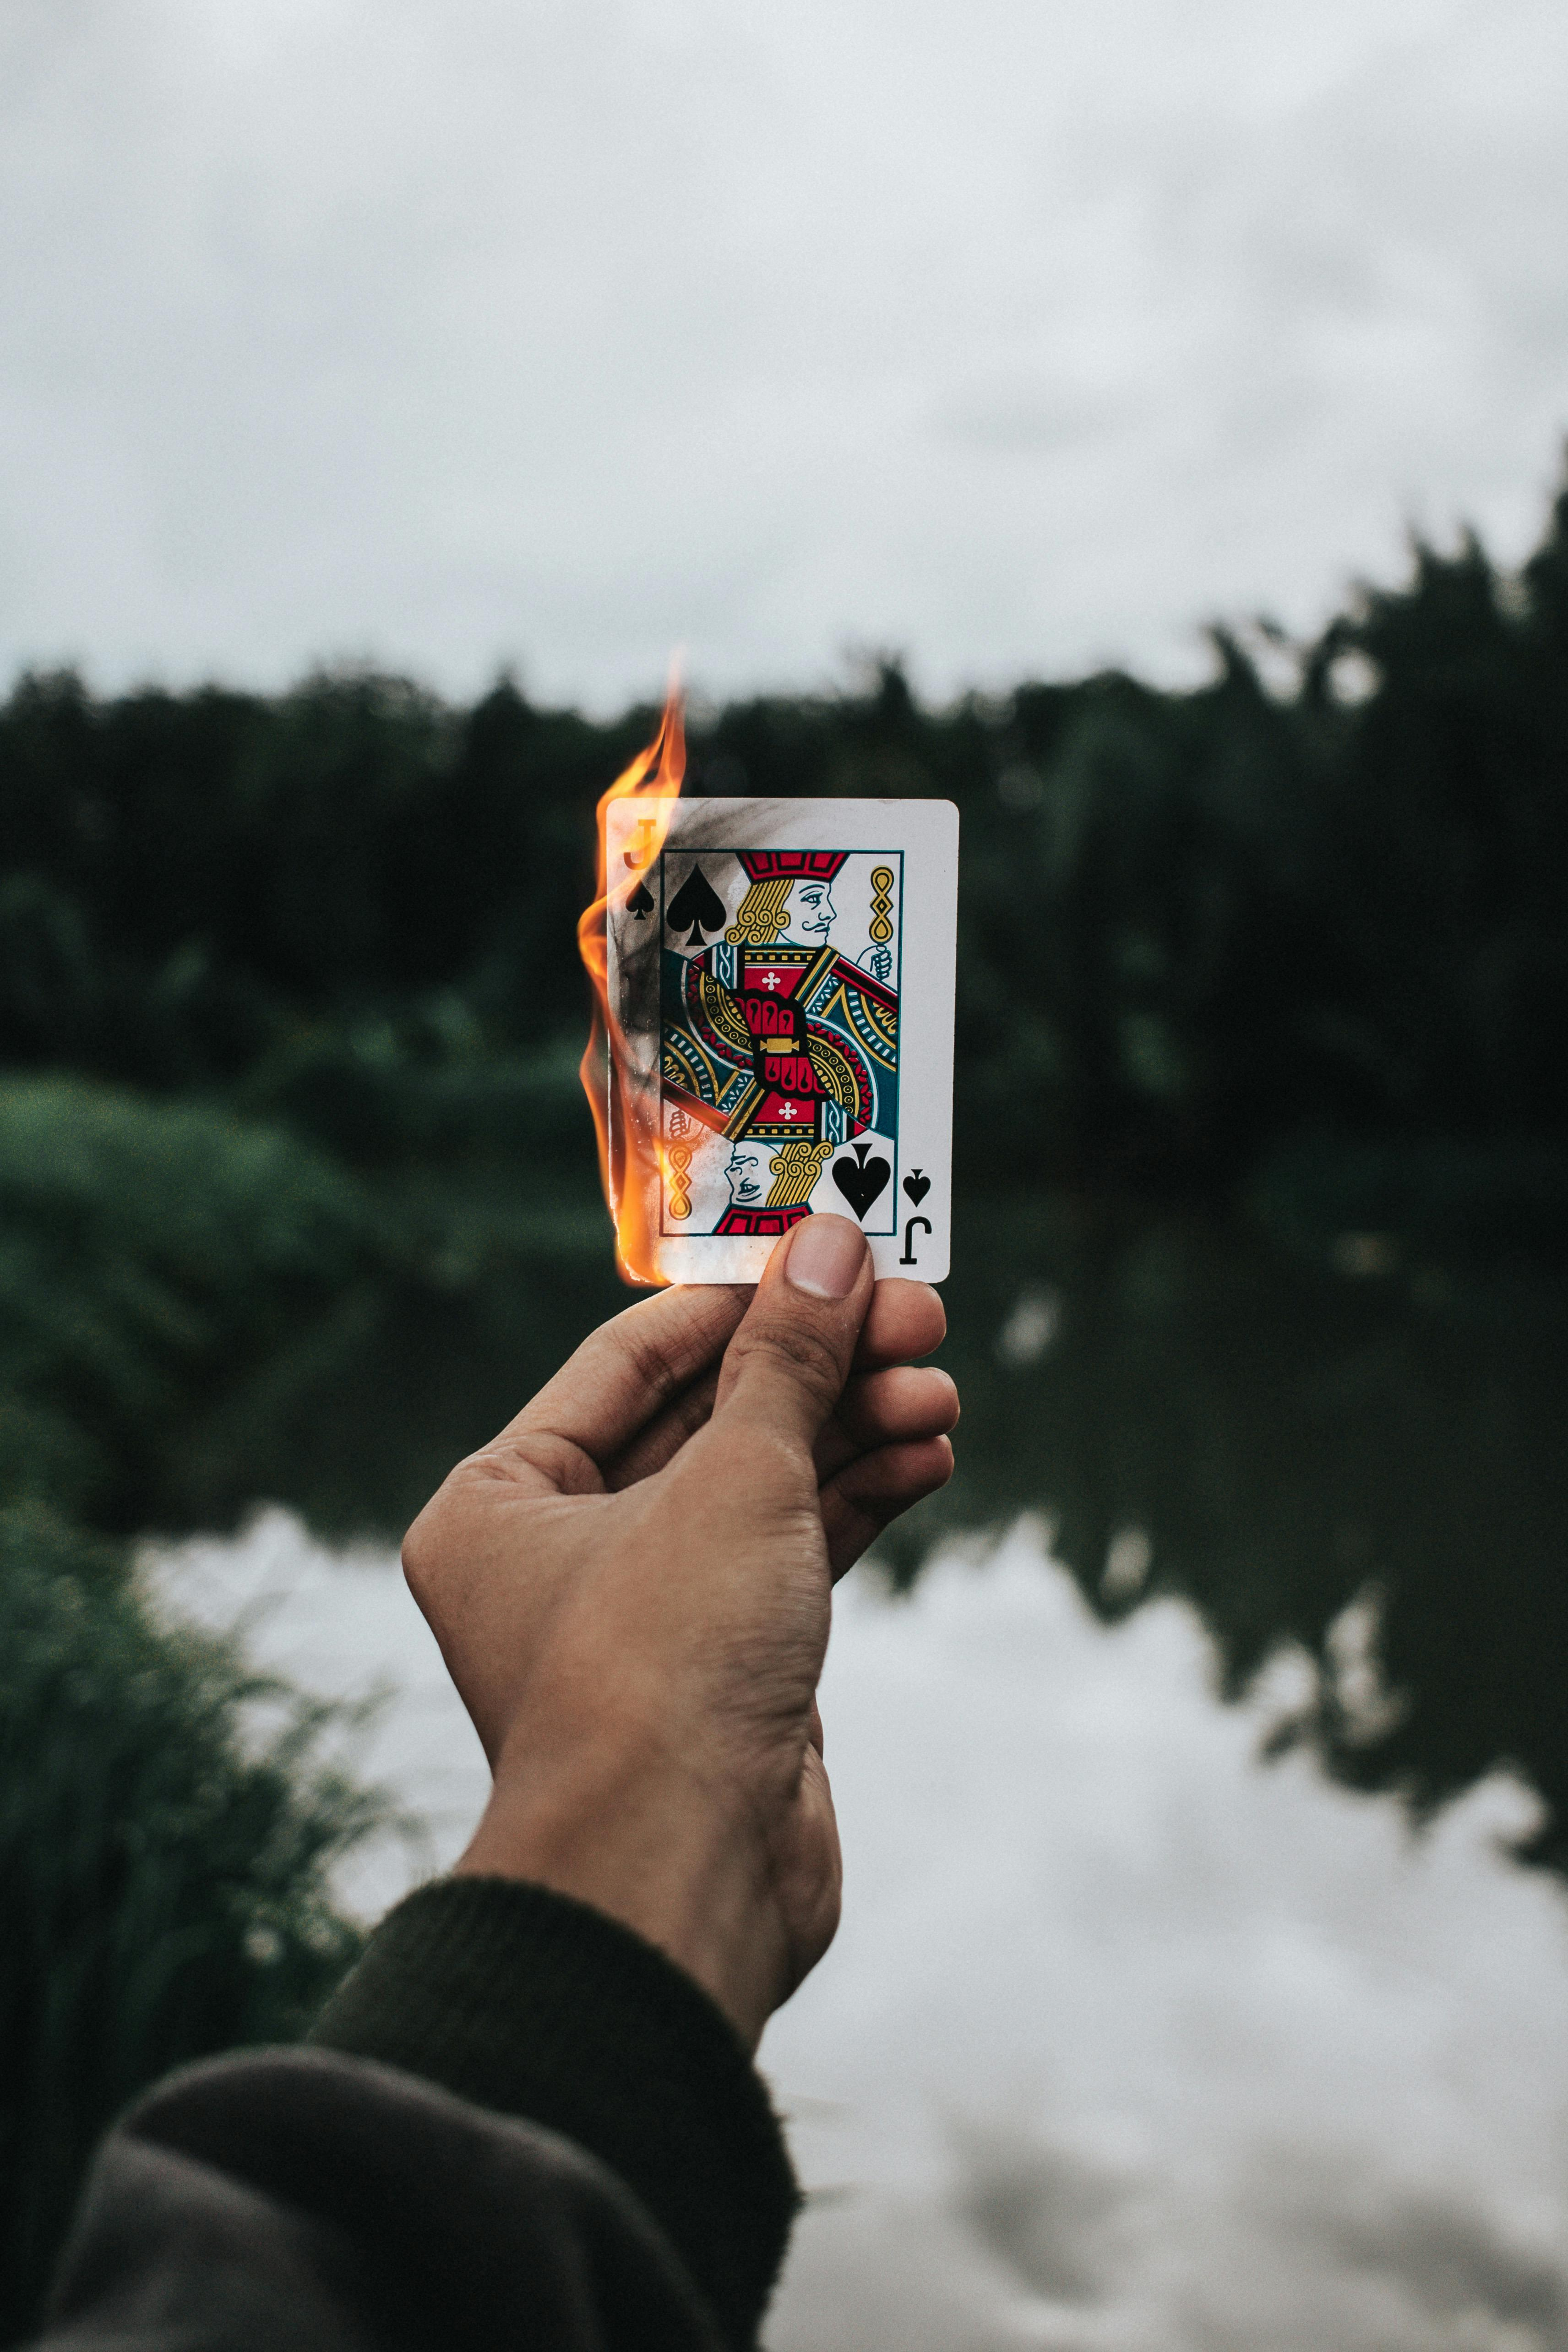Fire: (541, 693, 695, 1295)
